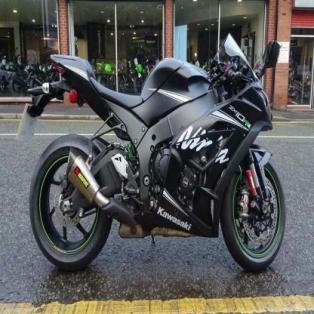Motocicleta: (23, 26, 288, 276)
